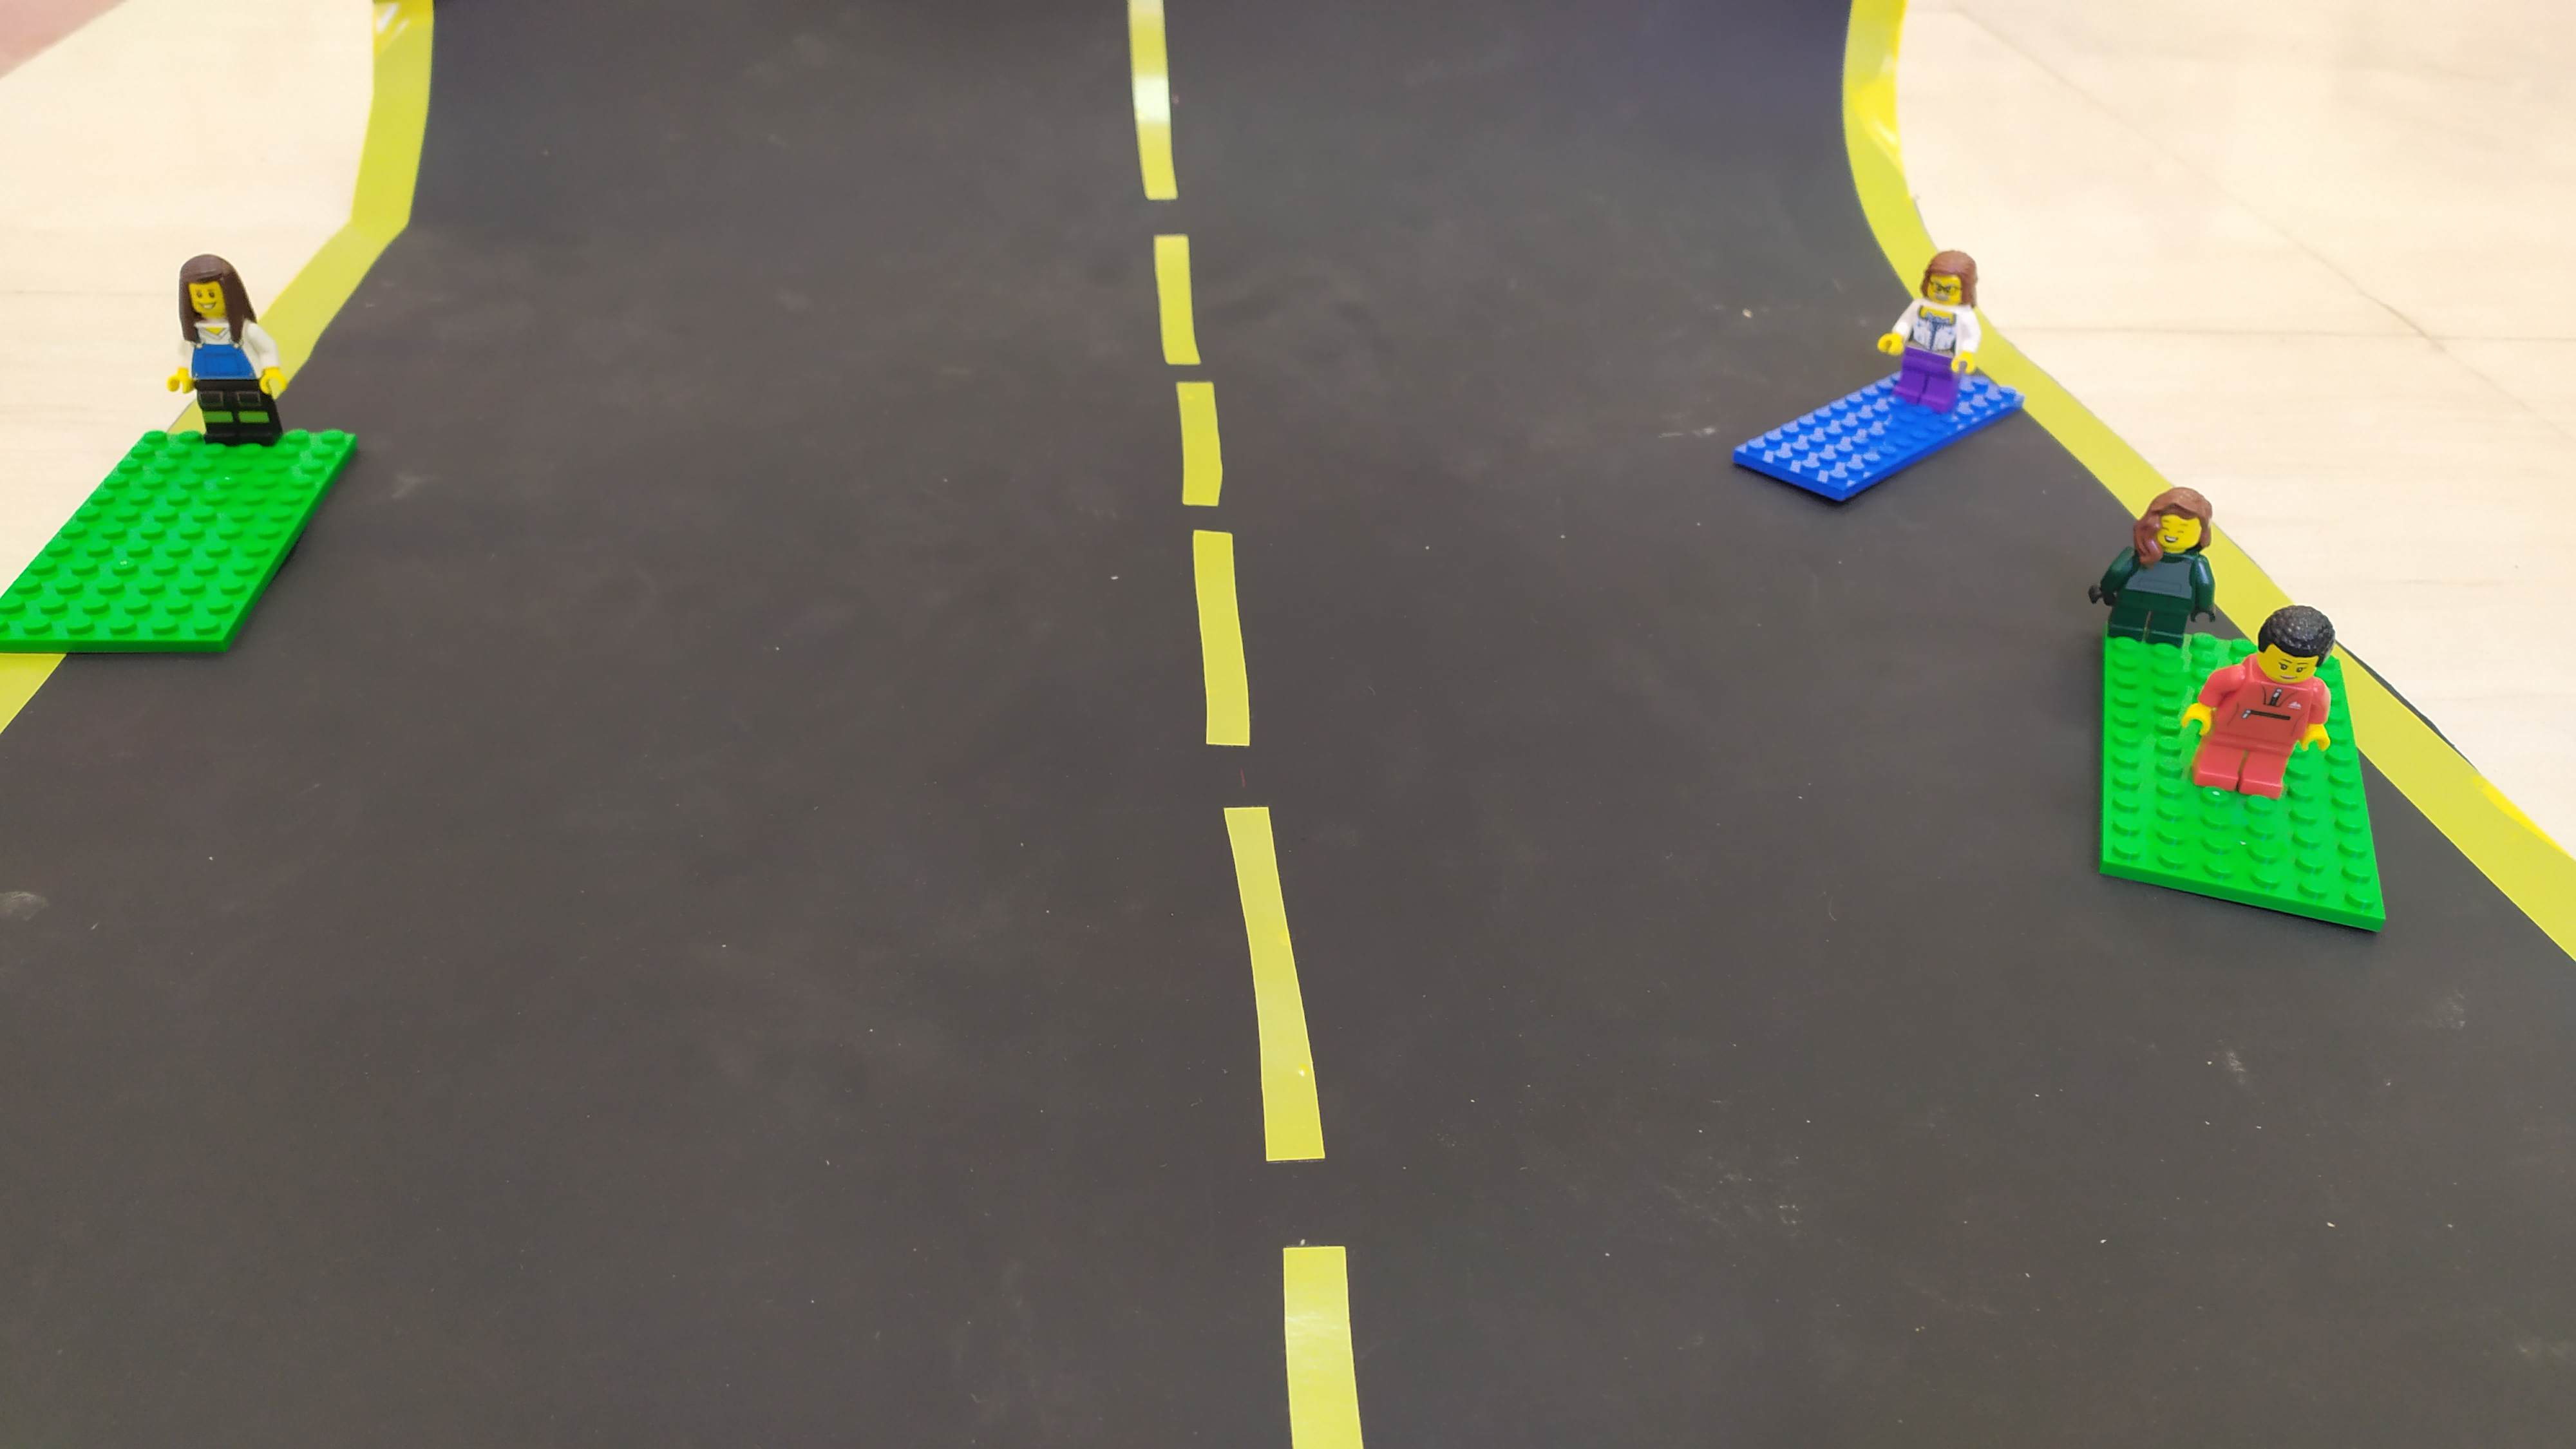Person: (2186, 589, 2380, 828), (2077, 473, 2251, 692), (171, 241, 274, 454), (1884, 241, 2006, 409)
